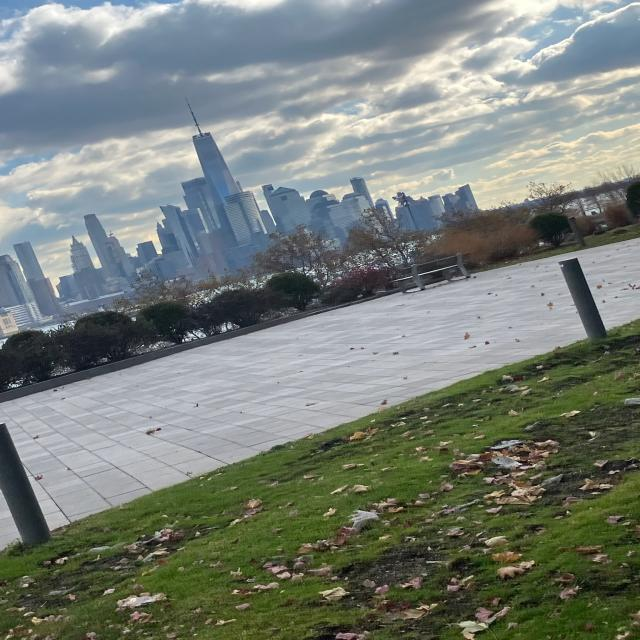WTC: (178, 96, 241, 198)
